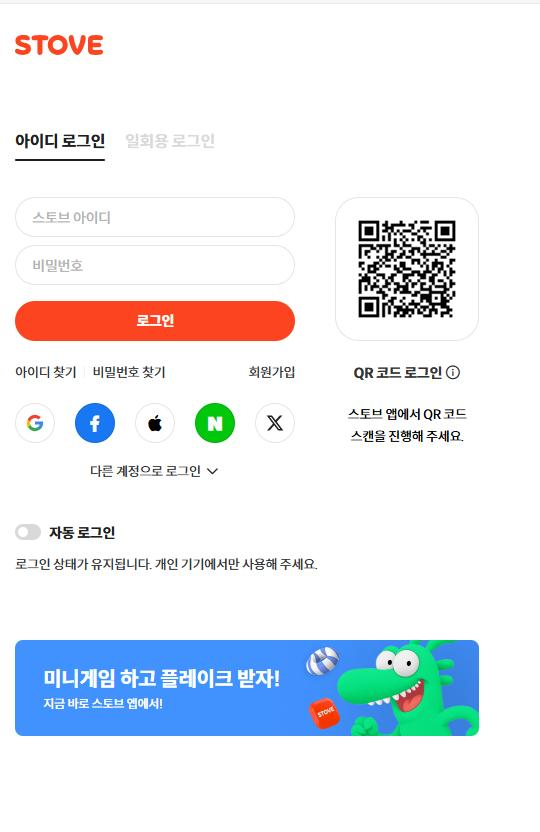button: (15, 301, 281, 338), (11, 124, 104, 160), (0, 340, 75, 384), (125, 119, 206, 158), (85, 464, 226, 483), (16, 405, 71, 441), (89, 361, 169, 384), (126, 403, 180, 436), (76, 398, 124, 431), (196, 405, 235, 440), (233, 364, 301, 384), (258, 409, 295, 440), (439, 359, 464, 381)
checkbox: (16, 525, 53, 545)
input_field: (6, 248, 280, 294), (16, 192, 290, 233)
qr_code: (336, 207, 478, 340)
